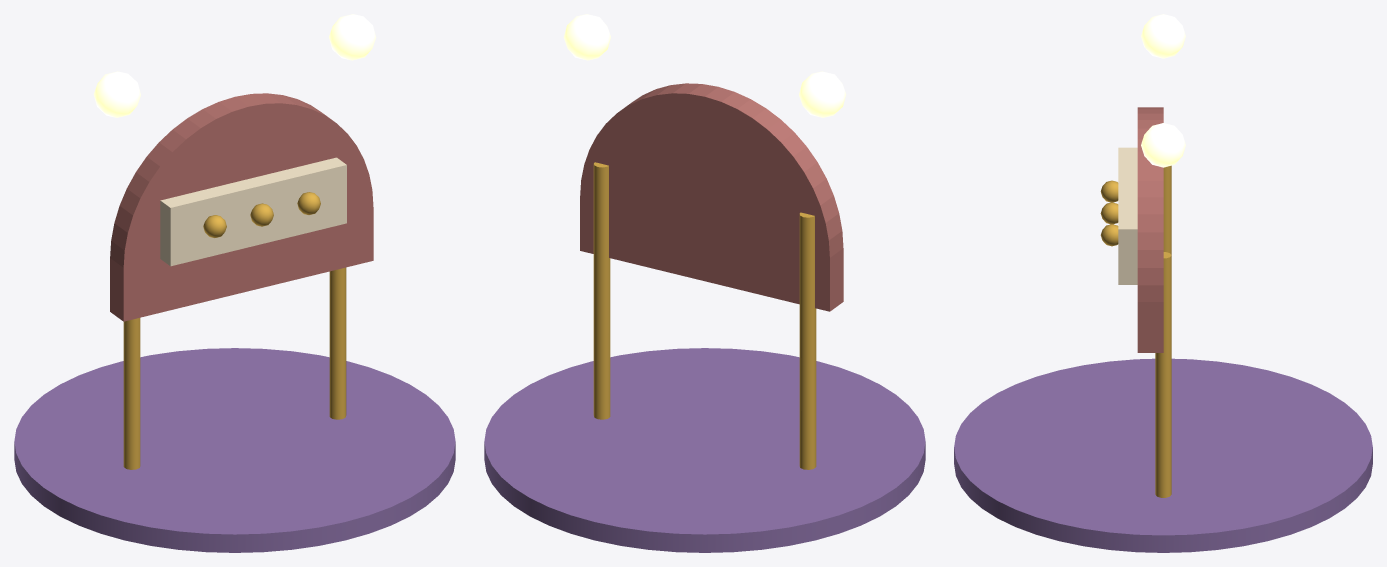
The model's file is stage.glb.
3 views of the same model, side by side, from view 1: azimuth 30°, elevation 25°; view 2: azimuth 150°, elevation 25°; view 3: azimuth 270°, elevation 25° (orthographic). The views are drawn at different scales.
Size of the model in its own units: 1.3 by 1.37 by 1.3.
